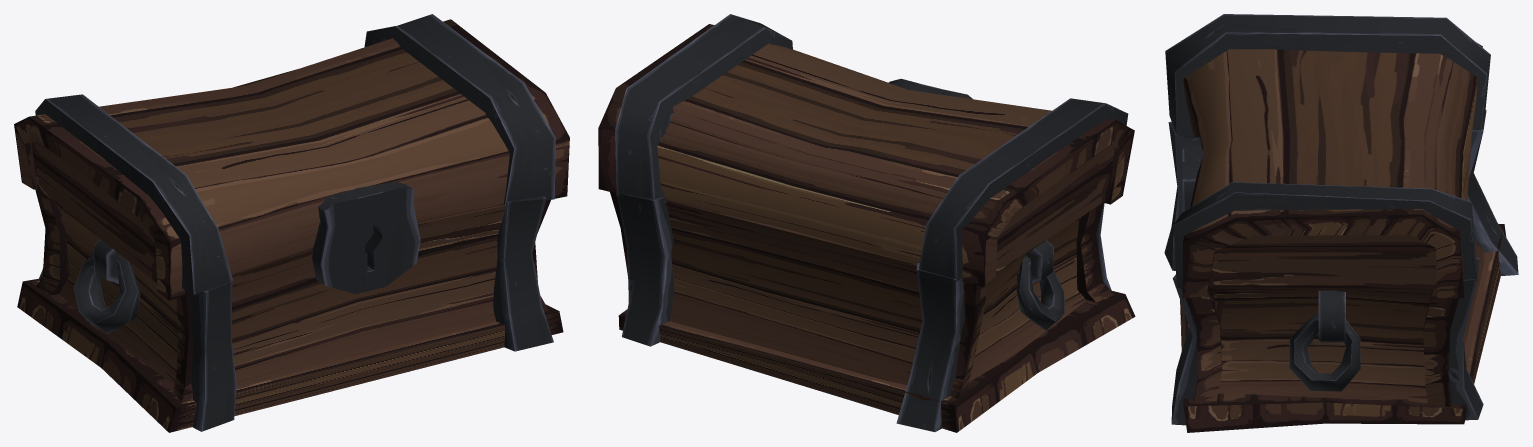
File: SM_PROP_chest_dungeon_03.fbx
3 renders of one model, left to right at view 1: azimuth 30°, elevation 25°; view 2: azimuth 150°, elevation 25°; view 3: azimuth 270°, elevation 25°, orthographic.
Visible parts, largest first — view 1: SM_PROP_chest_top_dungeon_03, SM_PROP_chest_dungeon_03; view 2: SM_PROP_chest_top_dungeon_03, SM_PROP_chest_dungeon_03; view 3: SM_PROP_chest_top_dungeon_03, SM_PROP_chest_dungeon_03.
Boxes of the visible parts, x1,y1,x2,y2 form: SM_PROP_chest_top_dungeon_03: (14, 14, 569, 300); SM_PROP_chest_dungeon_03: (17, 189, 563, 432); SM_PROP_chest_top_dungeon_03: (598, 14, 1134, 287); SM_PROP_chest_dungeon_03: (610, 192, 1135, 432); SM_PROP_chest_top_dungeon_03: (1165, 14, 1490, 298); SM_PROP_chest_dungeon_03: (1164, 110, 1518, 432).
Size of the model in its own units: 76.08 by 41.79 by 57.55.
